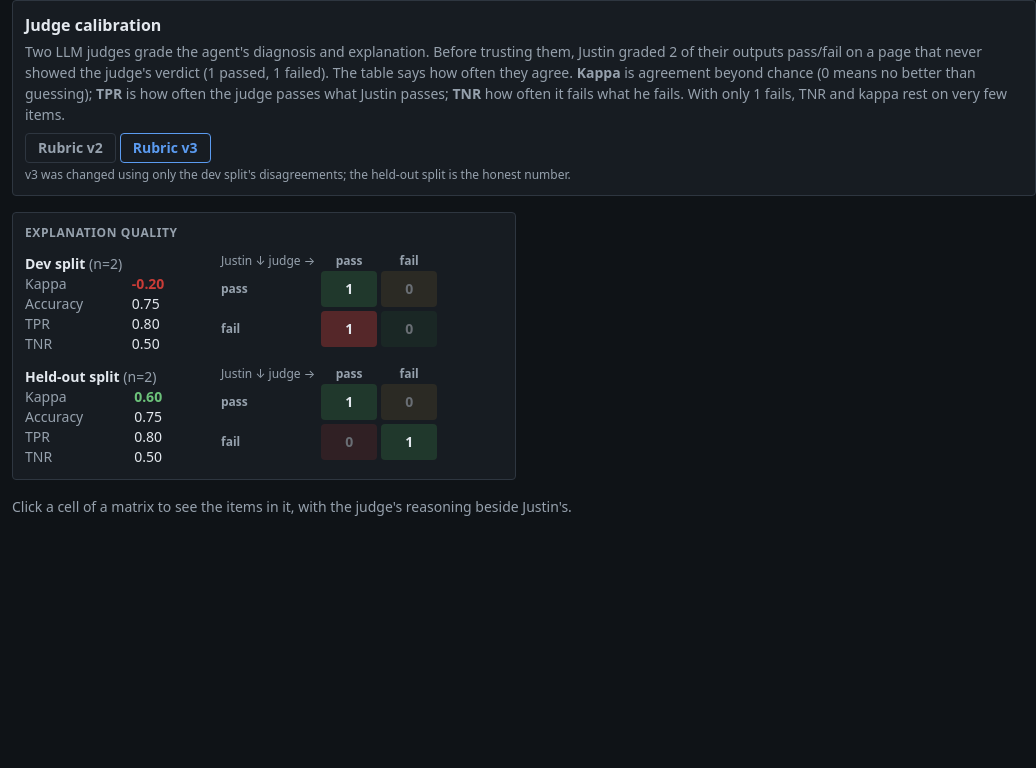
Test: Judge calibration › shows kappa per split, and a cell lists the items with both graders' reasoning
Expected: the heading "Judge calibration" is shown, [25, 14, 161, 36]
Expected: the text "-0.20" is shown, [132, 274, 164, 293]
Click the button named "explanation quality dev: Justin fail, judge pass: 1" at (349, 329), box [321, 311, 377, 347]
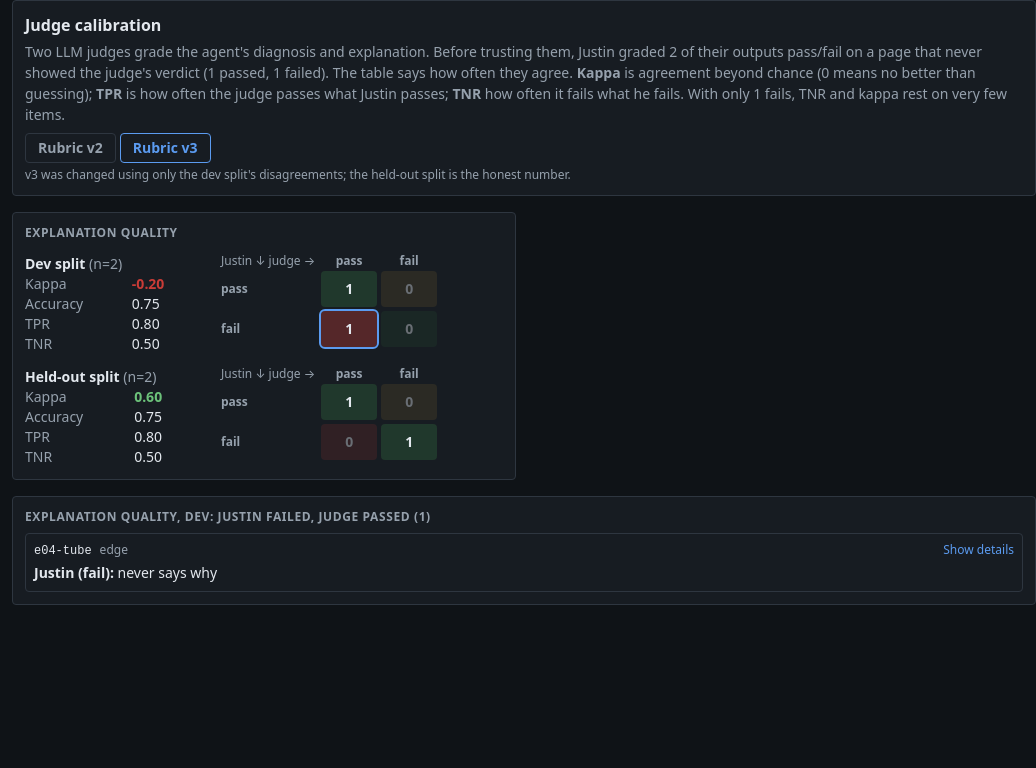
Result: the text "never says why" is shown at [118, 563, 217, 582]
Click the text "Show details" at (979, 550), box [943, 542, 1014, 558]
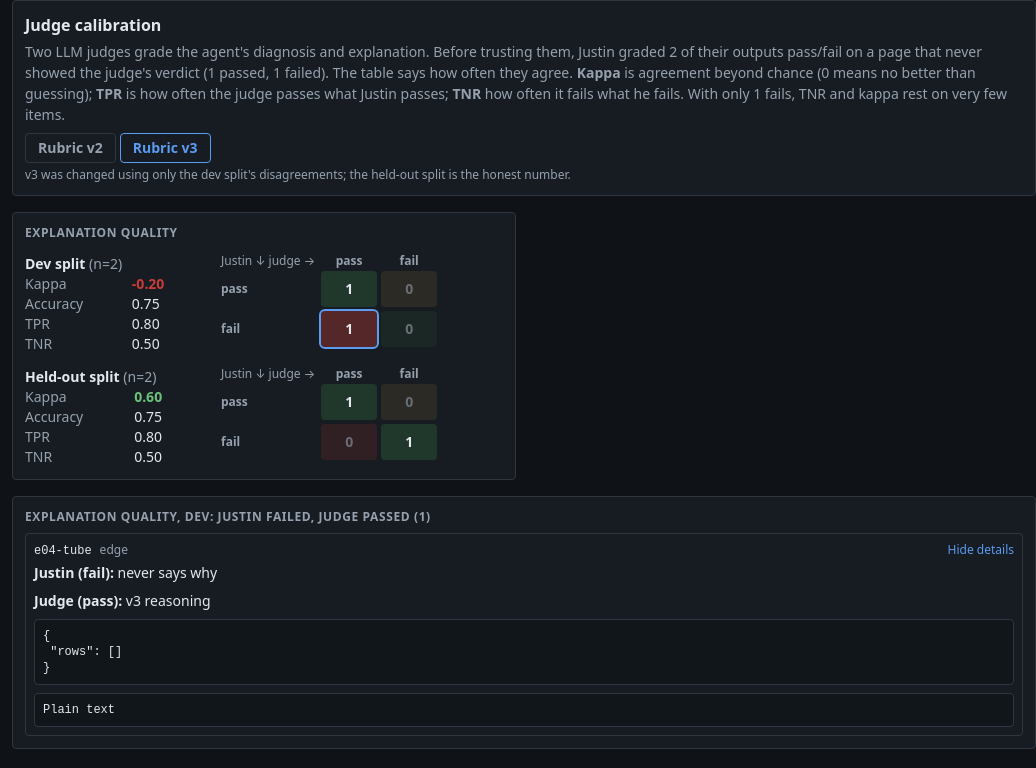
Result: the text "Judge (pass): v3 reasoning" is shown at [34, 591, 211, 610]
Click the tab "Rubric v2" at (70, 148), box [25, 133, 116, 163]
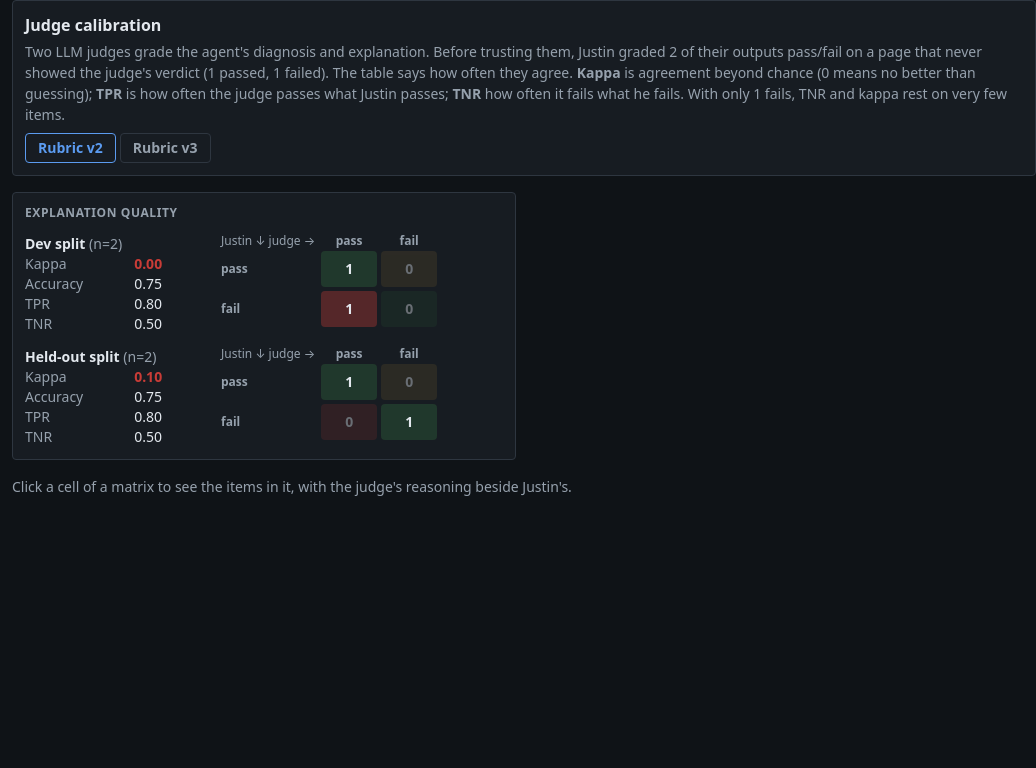
Result: the text "never says why" is gone
Result: the text "Click a cell" is shown at [12, 477, 572, 496]
